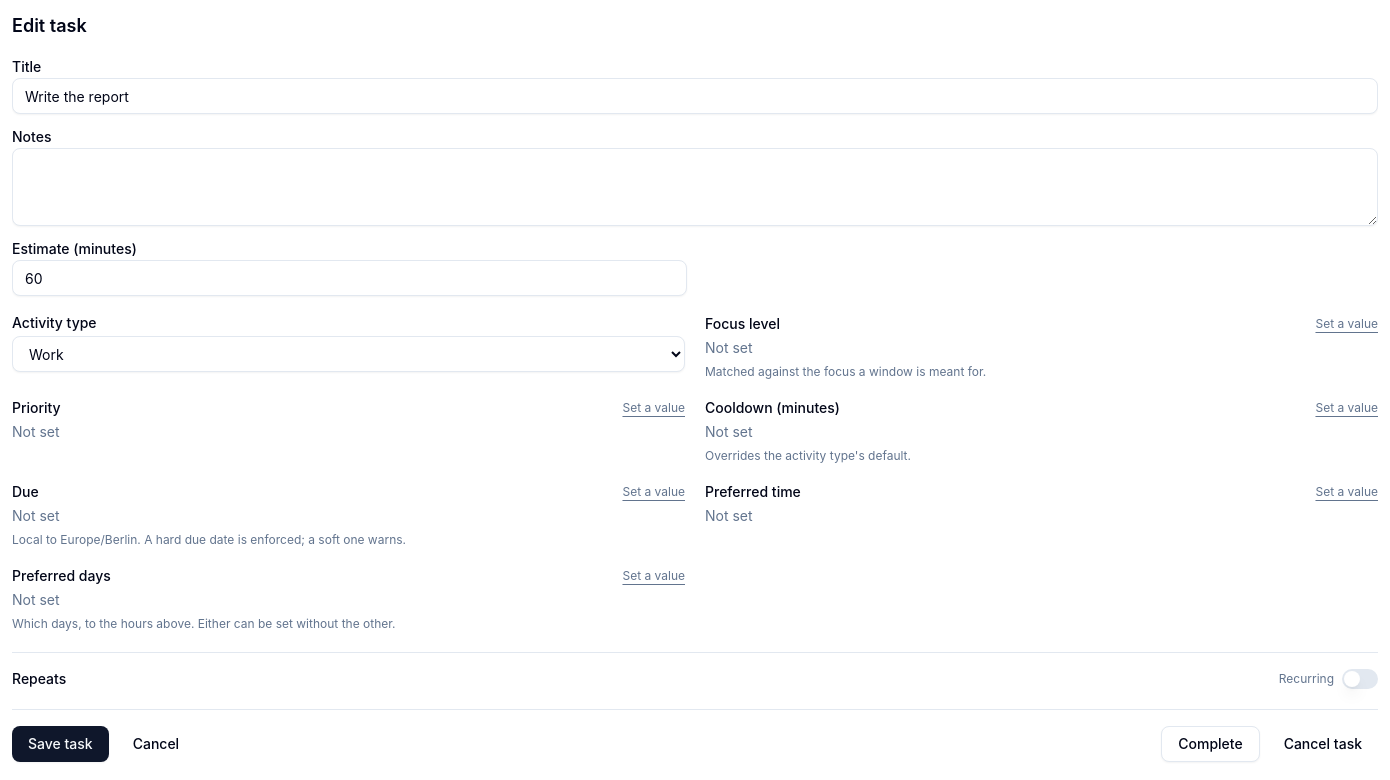
Scenario: the override control › offers to clear, not to inherit, when nothing supplies a value
The width and height of the screenshot is (1390, 780).
Click the button with test id "override-toggle" in the row of "Priority": (654, 408) 622,400 -> 685,416
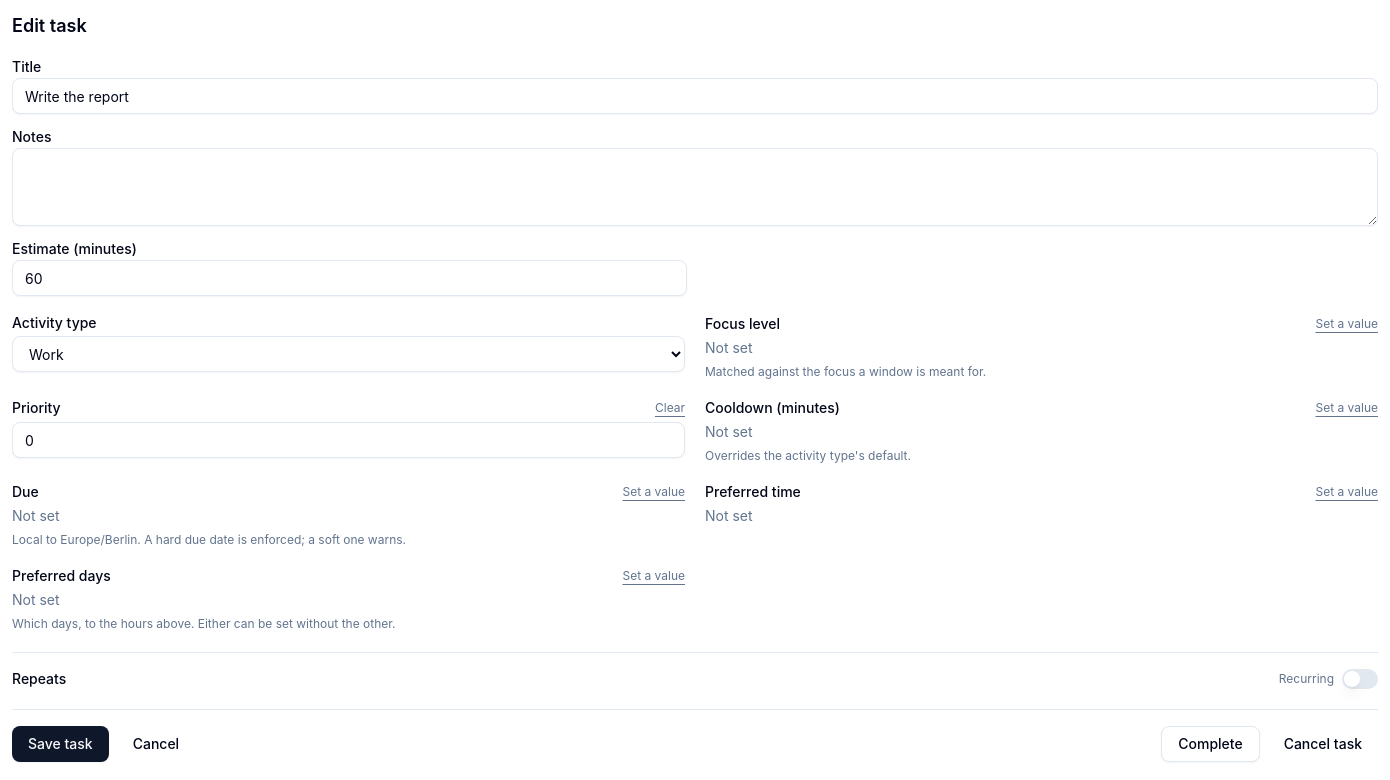
Result: the button with test id "override-toggle" reads "Clear" at 655,400 -> 685,416
